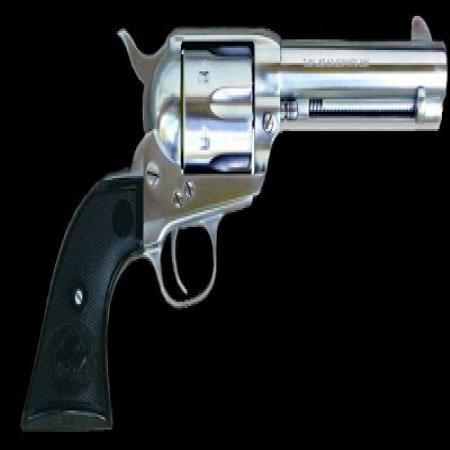Pistol: (20, 5, 448, 430)
